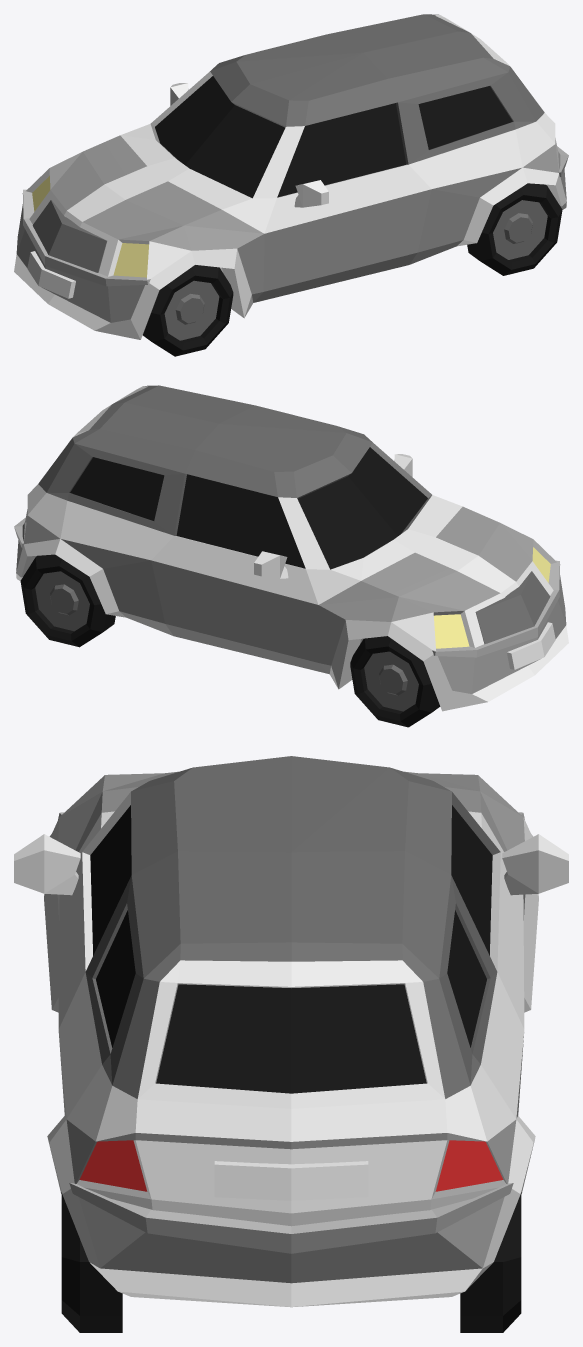
Rendered from vehicle_static_car_1.glb.
3 views of the same model, one above another, from view 1: azimuth 30°, elevation 25°; view 2: azimuth 150°, elevation 25°; view 3: azimuth 270°, elevation 25° (orthographic). The views are drawn at different scales.
Visible parts, largest first — view 1: Wheel1-3; view 2: Wheel1-3; view 3: Wheel1-3.
Boxes of the visible parts, box(x1,y1,x2,y2) form: Wheel1-3: box(14, 14, 568, 356); Wheel1-3: box(14, 385, 568, 727); Wheel1-3: box(14, 756, 568, 1332).
Size of the model in its own units: 4.19 by 1.62 by 2.16.
Materials: 4 (4 with a texture image).
